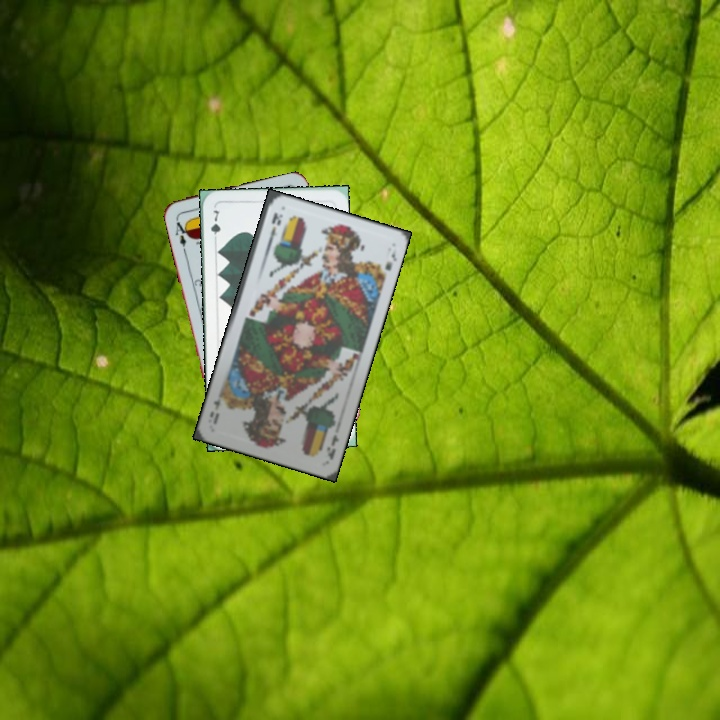EA: (171, 214, 192, 254)
EK: (264, 208, 285, 247), (323, 431, 341, 463)
G7: (207, 206, 223, 245)
